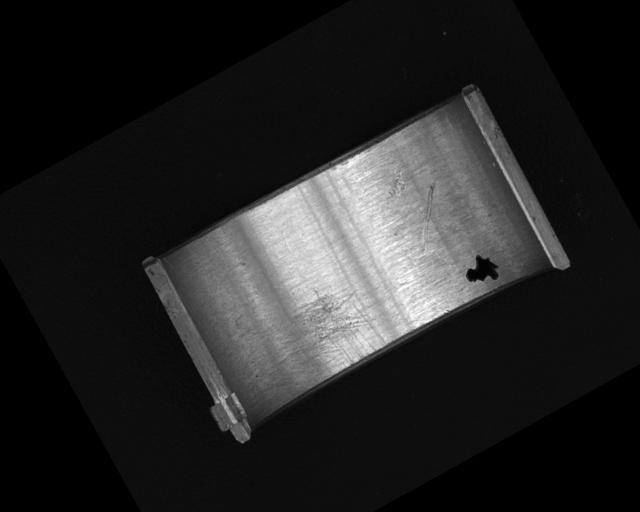blot: (458, 246, 505, 292)
bruise: (379, 166, 413, 200)
nick: (396, 183, 460, 252)
scratch: (238, 270, 389, 406)
